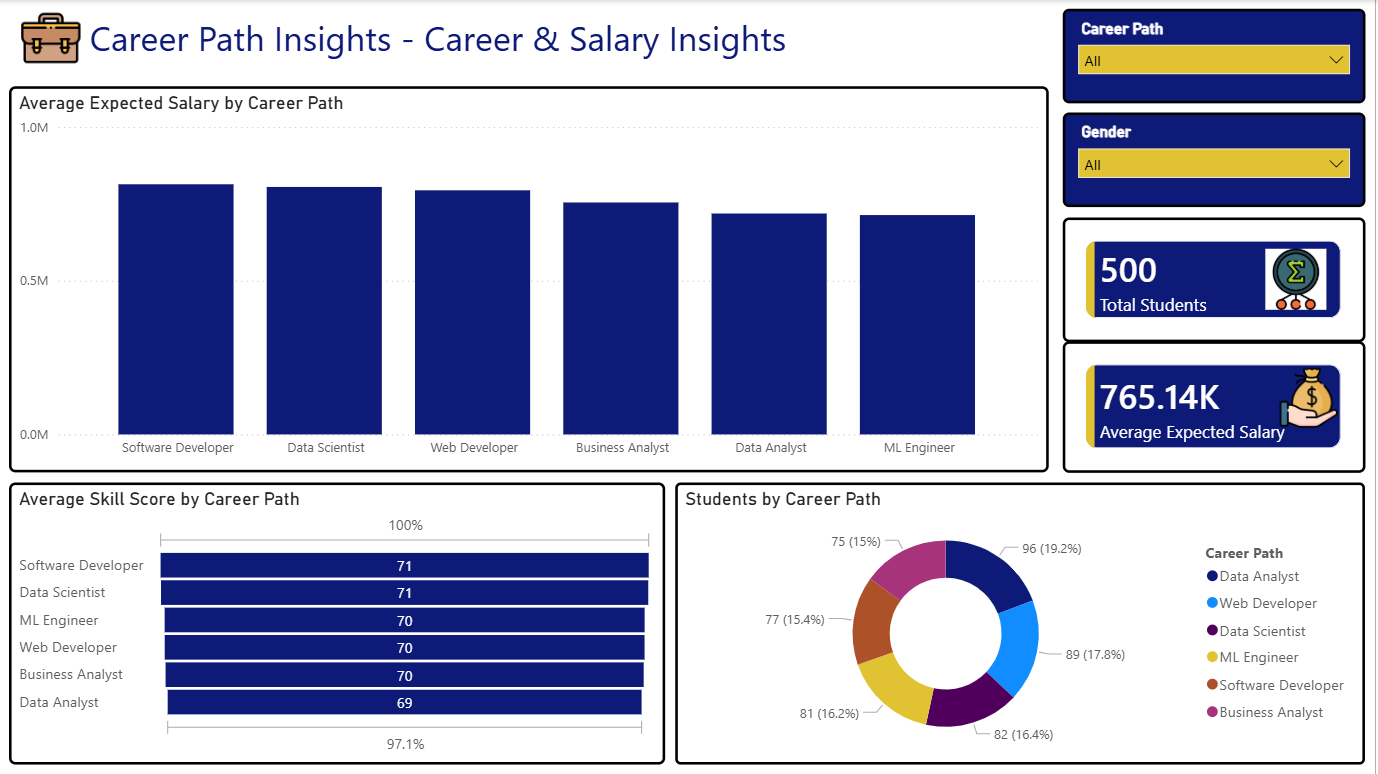

What the dashboard file says about the page in this screenshot:
{"tool":"powerbi","page":{"name":"Page 3","canvas":[1280,720],"ordinal":2},"visuals":[{"type":"funnel","fields":{"Category":["student_career_analytics.Career_Path"],"Y":["Avg(student_career_analytics.Average_Skill)"]},"box":[9.3,448.8,610.5,262.8],"z":0},{"type":"lineClusteredColumnComboChart","fields":{"Category":["student_career_analytics.Career_Path"],"Y":["Avg(student_career_analytics.Excpected_Salary)"]},"box":[9.3,80.2,967.4,359.3],"z":1000},{"type":"donutChart","fields":{"Y":["CountNonNull(student_career_analytics.Student_ID)"],"Category":["student_career_analytics.Career_Path"]},"box":[629.1,448.8,641.9,262.8],"z":2000},{"type":"cardVisual","fields":{"Data":["Avg(student_career_analytics.Excpected_Salary)"]},"box":[989.5,317.4,281.4,122.1],"z":3000},{"type":"cardVisual","fields":{"Data":["CountNonNull(student_career_analytics.Student_ID)"]},"box":[989.5,202.3,281.4,116.3],"z":4000},{"type":"textbox","box":[9.3,8.1,967.4,62.8],"z":5000},{"type":"slicer","fields":{"Values":["student_career_analytics.Career_Path"]},"box":[989.5,8.1,281.4,88.4],"z":6000},{"type":"slicer","fields":{"Values":["student_career_analytics.Gender"]},"box":[989.5,104.7,281.4,88.4],"z":7000},{"type":"image","box":[17.4,8.1,61.6,54.7],"z":7501},{"type":"image","box":[1175.6,231.4,61.6,57],"z":8002},{"type":"image","box":[1187.2,341.9,62.8,55.8],"z":8503}]}

Visuals, with their boxes in screenshot pixels (x1, y1, x2, y2), scaled from the page's 1280x720 canvas onto the 1378x774 screenshot:
funnel - student_career_analytics.Career_Path x Avg(student_career_analytics.Average_Skill): box(10, 482, 667, 765)
lineClusteredColumnComboChart - student_career_analytics.Career_Path x Avg(student_career_analytics.Excpected_Salary): box(10, 86, 1051, 472)
donutChart - CountNonNull(student_career_analytics.Student_ID) x student_career_analytics.Career_Path: box(677, 482, 1368, 765)
cardVisual - Avg(student_career_analytics.Excpected_Salary): box(1065, 341, 1368, 472)
cardVisual - CountNonNull(student_career_analytics.Student_ID): box(1065, 217, 1368, 342)
textbox: box(10, 9, 1051, 76)
slicer - student_career_analytics.Career_Path: box(1065, 9, 1368, 104)
slicer - student_career_analytics.Gender: box(1065, 113, 1368, 208)
image: box(19, 9, 85, 68)
image: box(1266, 249, 1332, 310)
image: box(1278, 368, 1346, 428)
